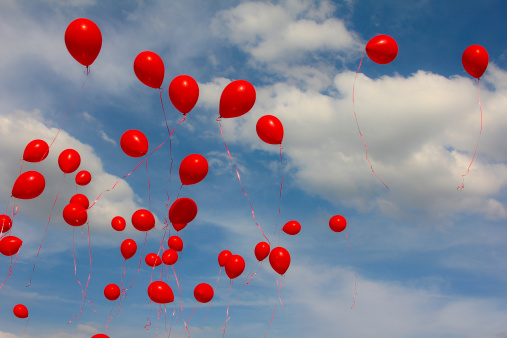Balloon: (65, 18, 102, 67), (219, 80, 256, 118), (132, 50, 166, 90), (168, 74, 200, 114), (365, 34, 399, 66), (11, 170, 45, 198), (462, 44, 488, 80), (179, 154, 209, 185), (255, 114, 284, 145), (120, 129, 149, 158), (169, 197, 198, 223), (23, 139, 49, 163), (269, 246, 291, 274), (147, 281, 174, 303), (59, 149, 82, 173), (63, 203, 87, 226), (131, 209, 156, 231), (1, 235, 23, 257), (225, 255, 245, 278), (193, 282, 214, 303), (328, 215, 348, 233), (120, 238, 137, 259), (254, 242, 271, 261), (74, 169, 92, 186), (103, 283, 121, 300), (167, 234, 184, 251), (282, 220, 301, 235), (12, 303, 29, 319), (144, 252, 162, 267), (162, 249, 178, 265), (111, 215, 126, 231), (1, 214, 12, 233)
